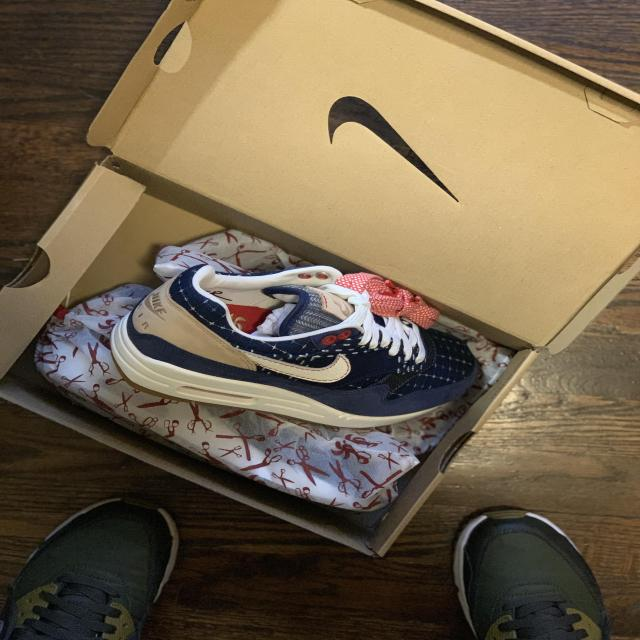shoes: (112, 260, 482, 424), (5, 495, 181, 640), (449, 503, 614, 640)
